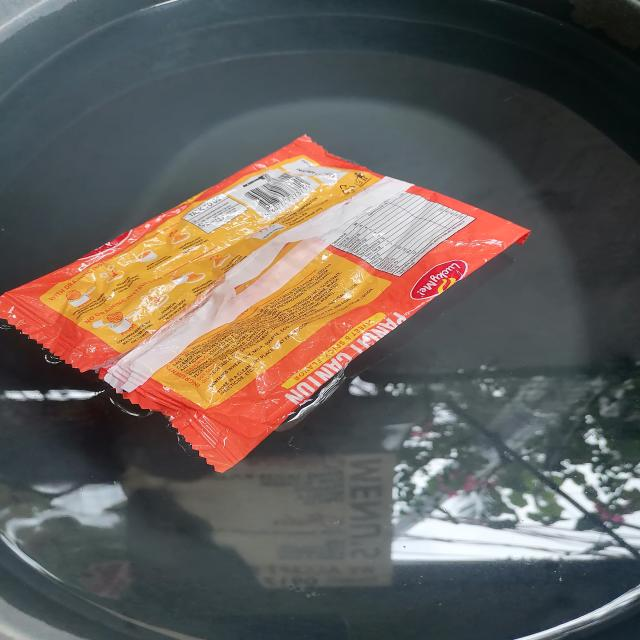Plastic Wrapper: (0, 136, 530, 472), (315, 196, 322, 200)
